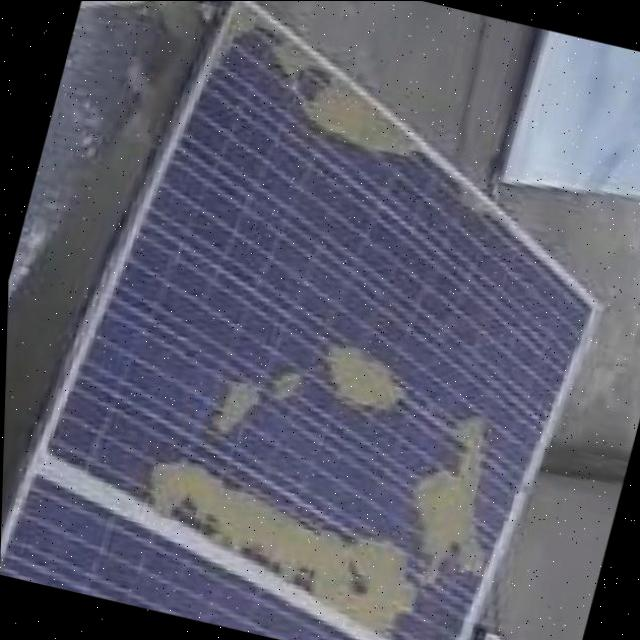Anomaly Solar Panel: (3, 0, 640, 640)
Surface Contaminant: (131, 435, 442, 640), (248, 28, 425, 188), (407, 409, 499, 578), (197, 342, 313, 441), (310, 328, 411, 420)
